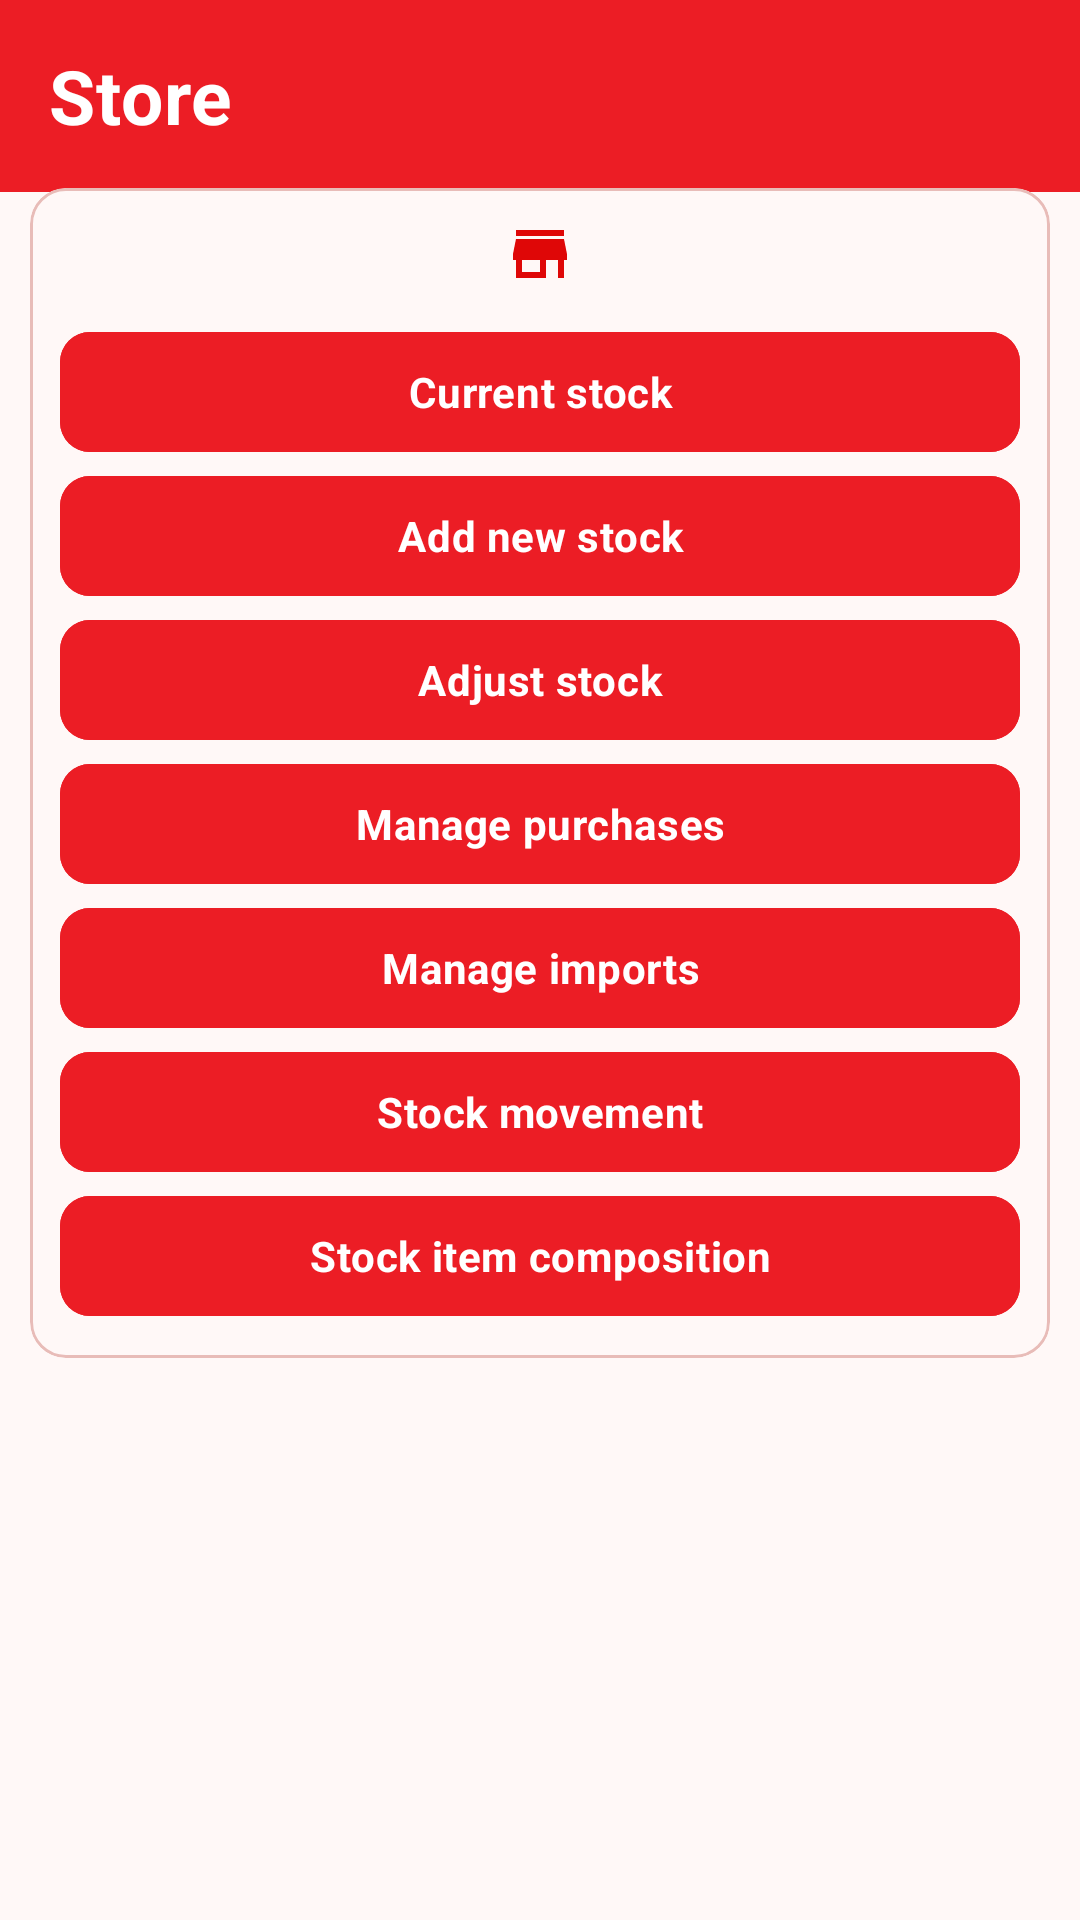

Screen size 1080 x 1920. Icon name, then its center in pixels as (x=x, y=y):
store: (x=540, y=254)
